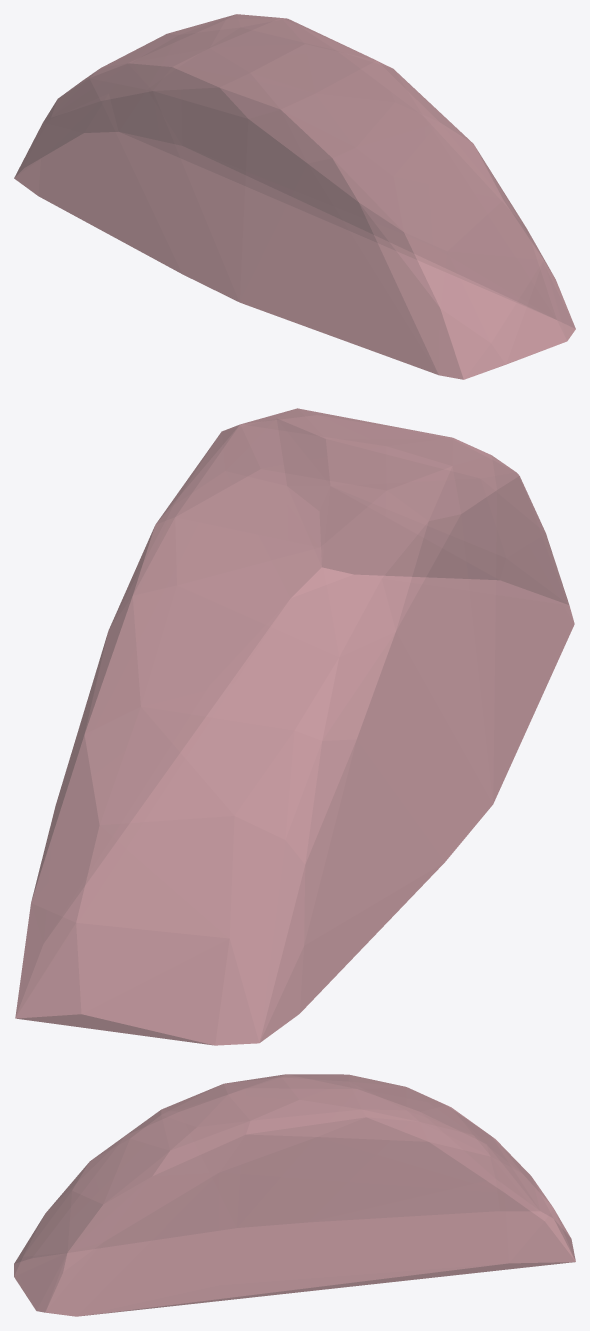
The picture shows the model from 3 angles, top to bottom: view 1: azimuth 30°, elevation 25°; view 2: azimuth 150°, elevation 25°; view 3: azimuth 270°, elevation 25°; orthographic projection. The views are drawn at different scales.
Parts seen in each view (by area): view 1: Shape_IndexedFaceSet.004_Shape_IndexedFaceSet.6690; view 2: Shape_IndexedFaceSet.004_Shape_IndexedFaceSet.6690; view 3: Shape_IndexedFaceSet.004_Shape_IndexedFaceSet.6690.
Part boxes in pixels (bbox=[...]): Shape_IndexedFaceSet.004_Shape_IndexedFaceSet.6690: bbox=[14, 14, 575, 379]; Shape_IndexedFaceSet.004_Shape_IndexedFaceSet.6690: bbox=[15, 408, 574, 1045]; Shape_IndexedFaceSet.004_Shape_IndexedFaceSet.6690: bbox=[14, 1074, 575, 1316].
Bounding box in the file's own units: 0.0297 × 0.0223 × 0.0668.
